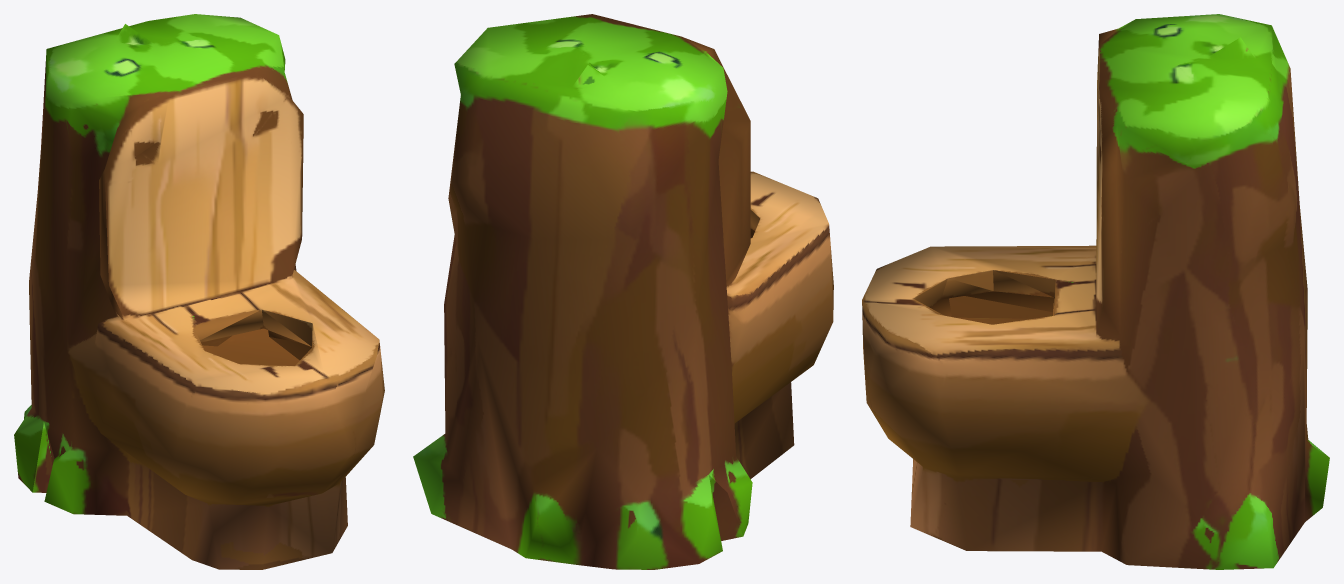
Rendered from hollow-log-toilet.glb.
3 renders of one model, left to right at view 1: azimuth 30°, elevation 25°; view 2: azimuth 150°, elevation 25°; view 3: azimuth 270°, elevation 25°, orthographic. The views are drawn at different scales.
Visible parts, largest first — view 1: geometry_0.001; view 2: geometry_0.001; view 3: geometry_0.001.
Part boxes in pixels (<box>): geometry_0.001: <box>14,14,384,569</box>; geometry_0.001: <box>413,14,833,569</box>; geometry_0.001: <box>862,14,1329,569</box>.
Bounding box in the file's own units: 0.6317 × 1 × 0.9151.
Materials: 1 (1 with a texture image).
